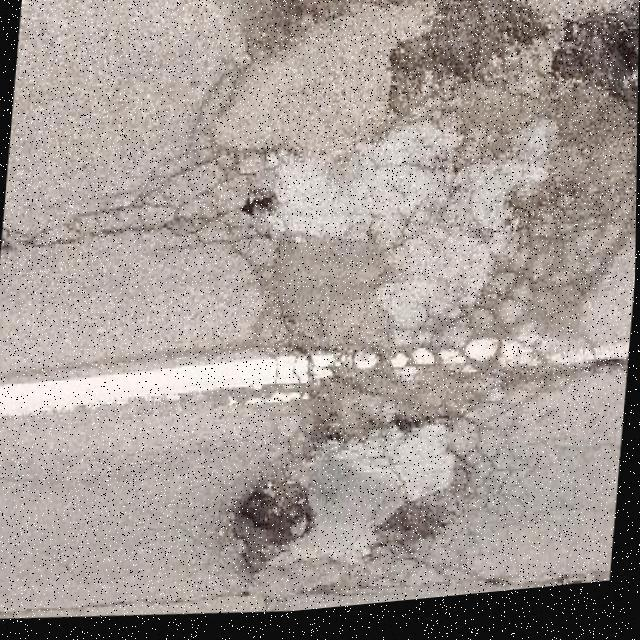pothole: (226, 474, 322, 589)
